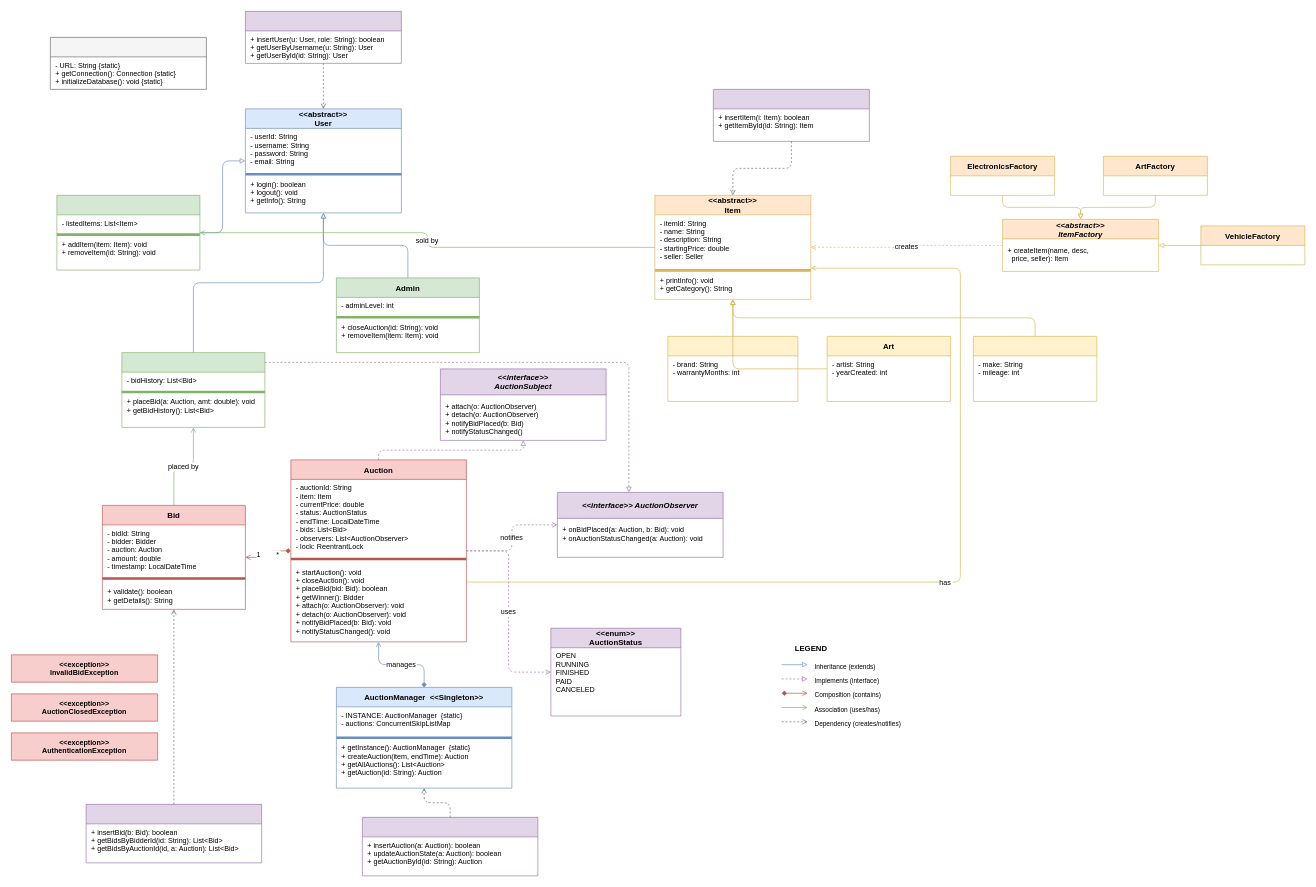
Some shapes in this 1316 by 887 pixel diagram are drawn without their labels. The box of each missing label's shape, as (x1, y1, x2, y2) in pixels:
AuctionDAO: (362, 817, 538, 876)
BidDAO: (85, 804, 262, 863)
Bidder: (121, 352, 265, 427)
DatabaseConnection: (50, 37, 206, 89)
Electronics: (667, 336, 798, 401)
ItemDAO: (713, 89, 869, 141)
Seller: (56, 195, 200, 270)
UserDAO: (245, 11, 401, 63)
Vehicle: (973, 336, 1097, 401)
